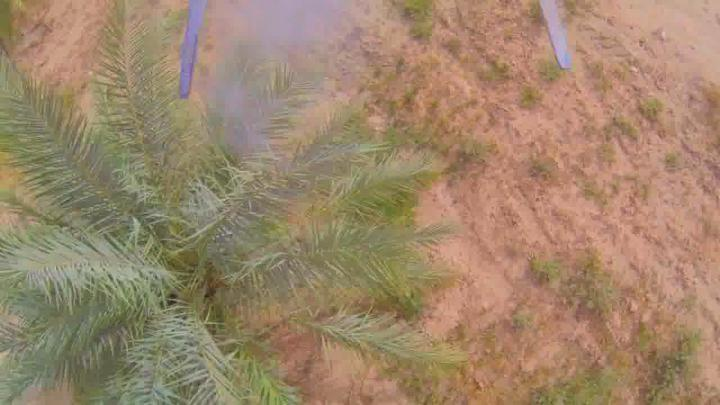Date-Palm-Crown: (15, 120, 339, 404)
